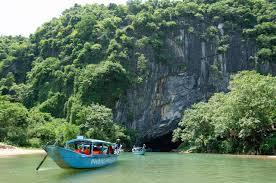boat: (43, 134, 123, 171), (132, 142, 148, 156)
